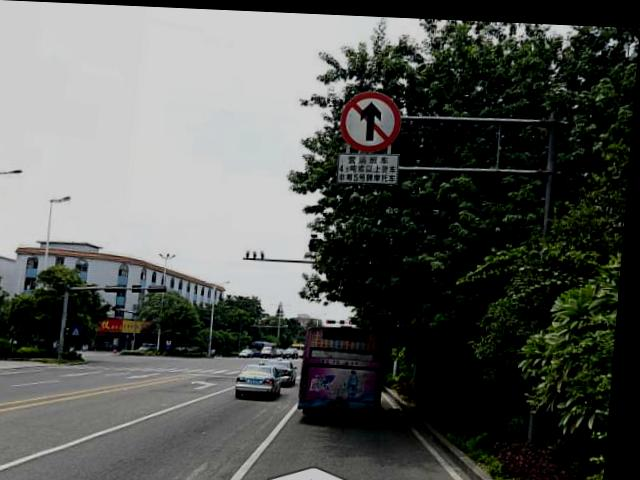not_go_straight: (336, 86, 406, 150)
